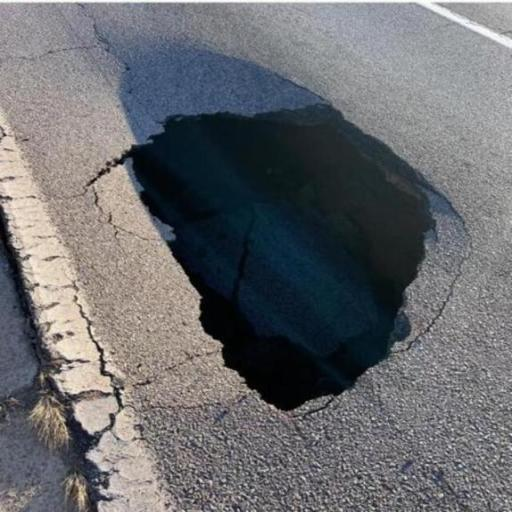Concentric_Crack: (129, 104, 466, 408)
